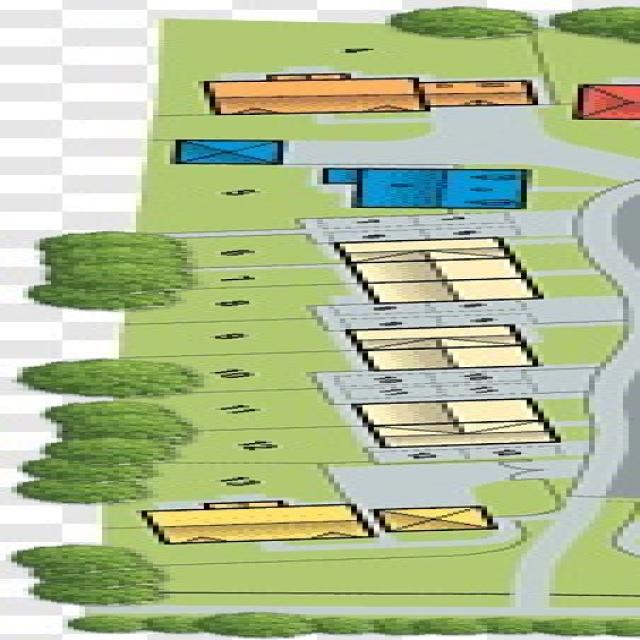greenish: (166, 32, 466, 73), (165, 563, 506, 592), (152, 168, 305, 228), (131, 324, 331, 351), (170, 467, 322, 501), (188, 394, 322, 430), (214, 432, 362, 462), (188, 354, 310, 390), (562, 544, 634, 596), (549, 39, 640, 77), (192, 243, 322, 268), (166, 122, 397, 136), (468, 480, 566, 513), (196, 291, 318, 317), (157, 548, 344, 562), (196, 269, 349, 285), (551, 126, 640, 149), (154, 80, 210, 115), (544, 330, 606, 360), (540, 276, 630, 296), (523, 242, 584, 268), (540, 170, 622, 187), (540, 191, 603, 211)
